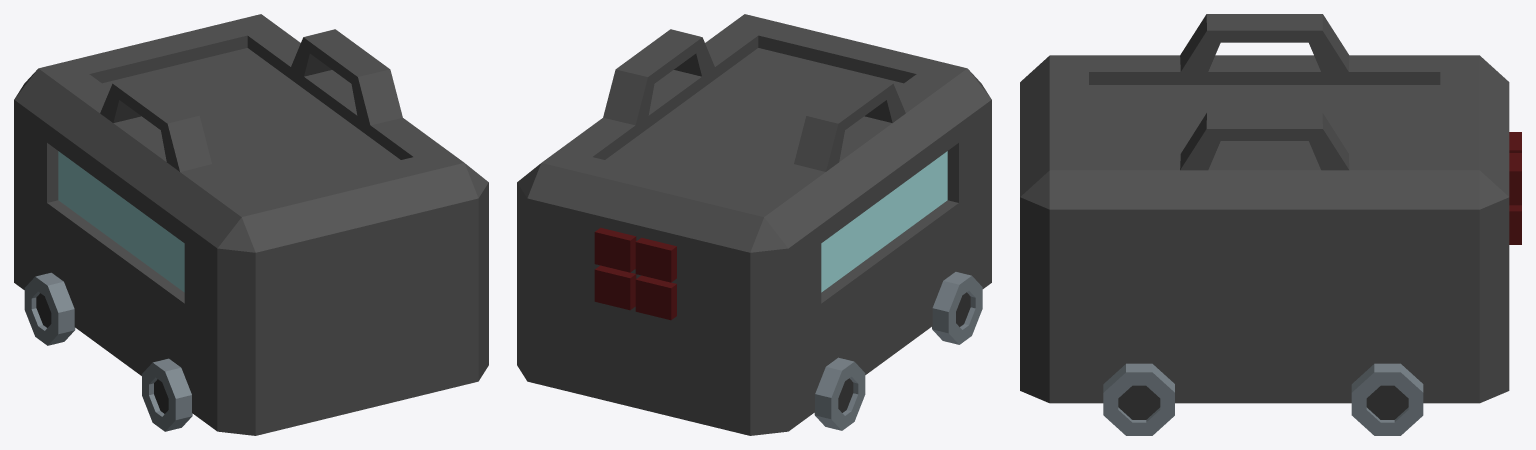
The model's file is rover_lab.fbx.
3 renders of one model, left to right at view 1: azimuth 30°, elevation 25°; view 2: azimuth 150°, elevation 25°; view 3: azimuth 270°, elevation 25°, orthographic. The views are drawn at different scales.
Parts seen in each view (by area): view 1: rover_lab; view 2: rover_lab; view 3: rover_lab.
Part boxes in pixels (box(x1,y1,x2,y2)): rover_lab: box(14, 14, 488, 435); rover_lab: box(517, 14, 991, 435); rover_lab: box(1020, 14, 1521, 435).
Size of the model in its own units: 0.6199 by 0.8369 by 0.5261.
